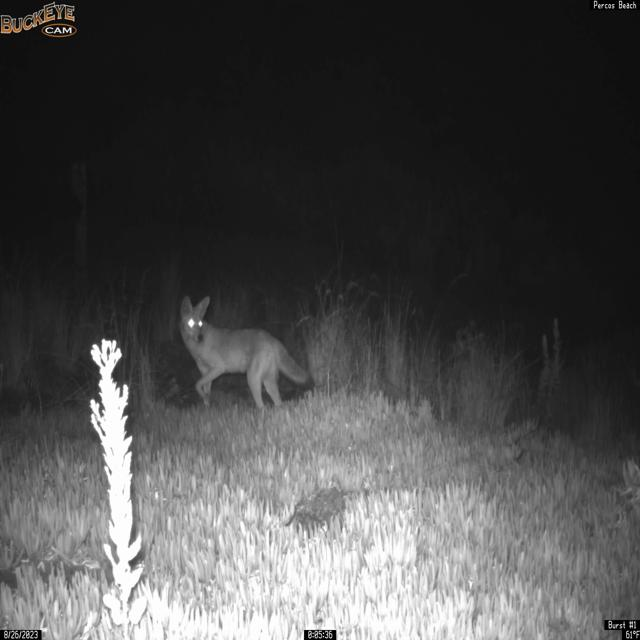coyote: (178, 295, 315, 411)
